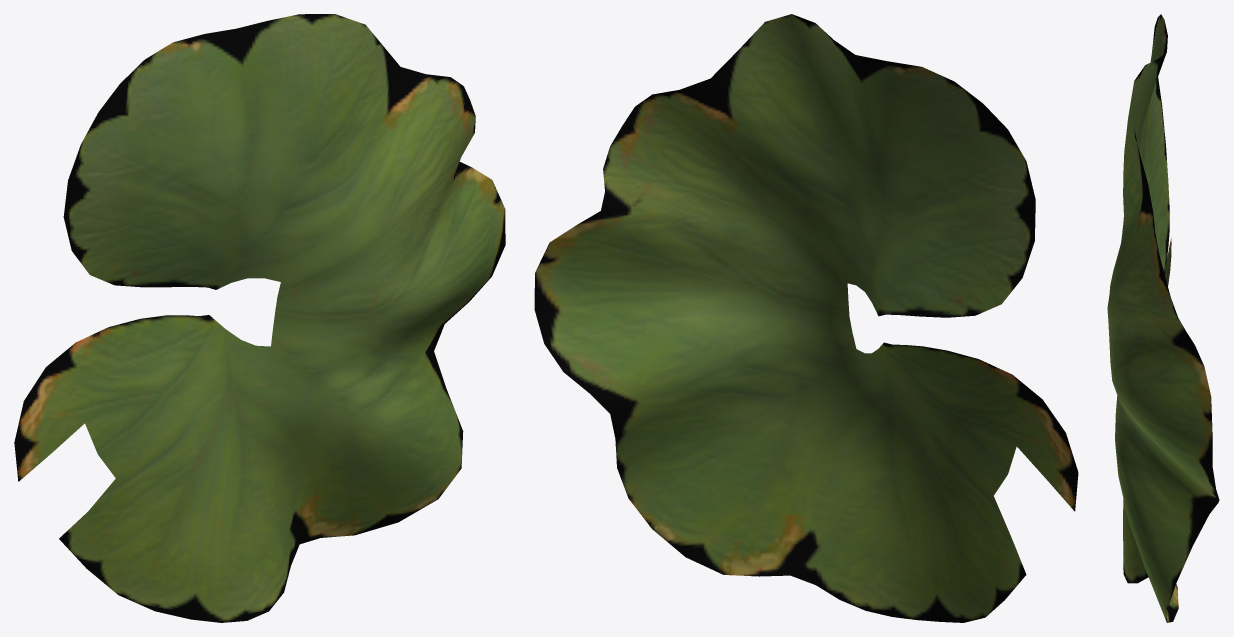
Rendered from vine-leaf.glb.
The picture shows the model from 3 angles, left to right: view 1: azimuth 30°, elevation 25°; view 2: azimuth 150°, elevation 25°; view 3: azimuth 270°, elevation 25°; orthographic projection. The views are drawn at different scales.
Parts seen in each view (by area): view 1: potted_plant_01_leaves; view 2: potted_plant_01_leaves; view 3: potted_plant_01_leaves.
Boxes of the visible parts, left/top/right/bottom form: potted_plant_01_leaves: left=14, top=14, right=505, bottom=622; potted_plant_01_leaves: left=534, top=14, right=1078, bottom=622; potted_plant_01_leaves: left=1107, top=14, right=1219, bottom=622.
Bounding box in the file's own units: 0.2501 × 0.27 × 0.051.
Materials: 1 (1 with a texture image).
